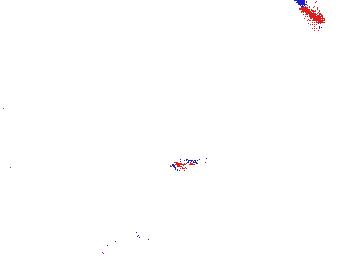X-ray fish: (89, 238, 163, 260)
red belly glassfish: (168, 153, 232, 175), (297, 1, 329, 33)
